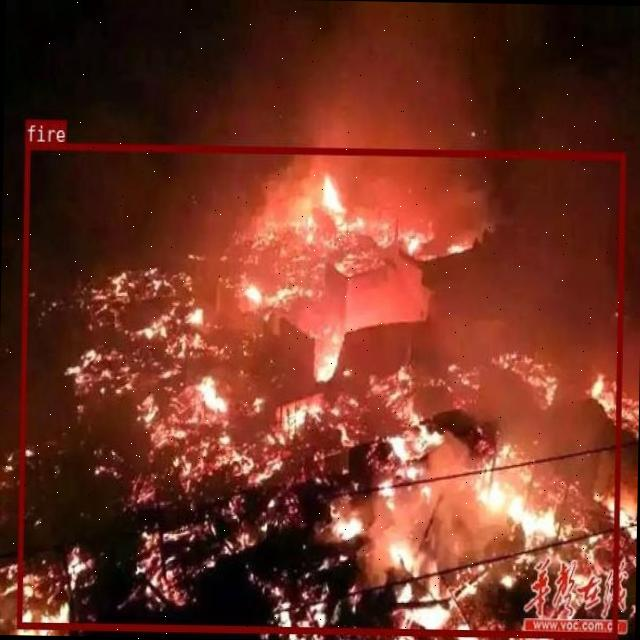fire: (16, 141, 624, 638)
